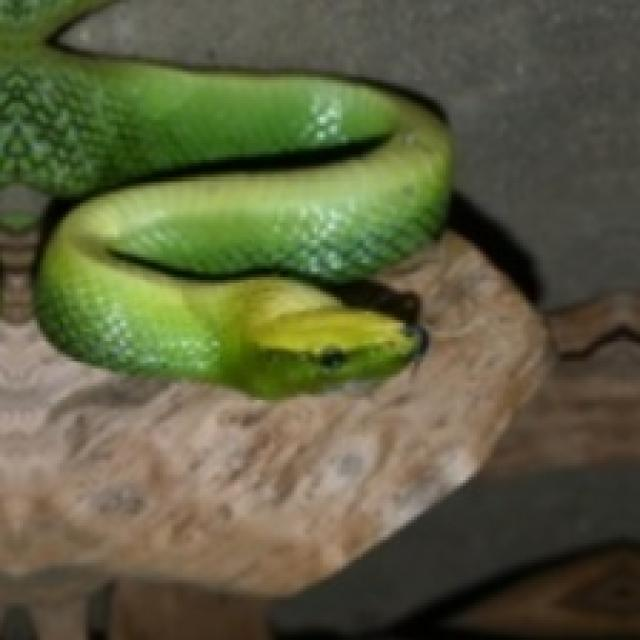red-tailed green ratsnake: (0, 0, 449, 394)
